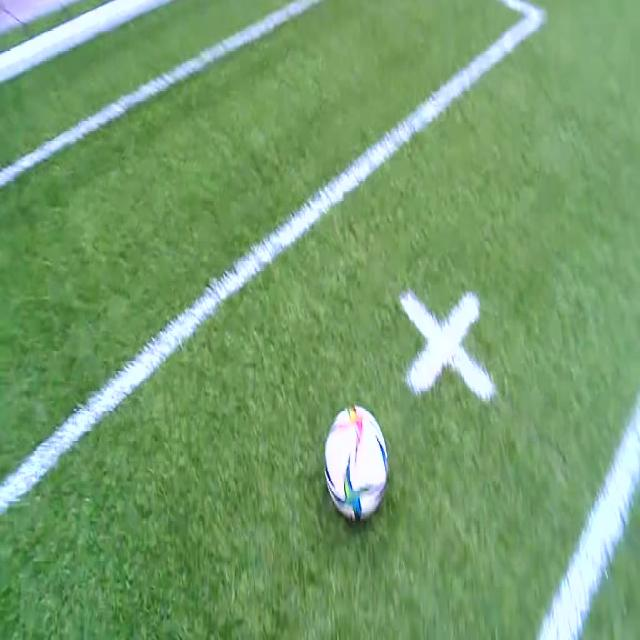ball: (324, 406, 388, 523)
